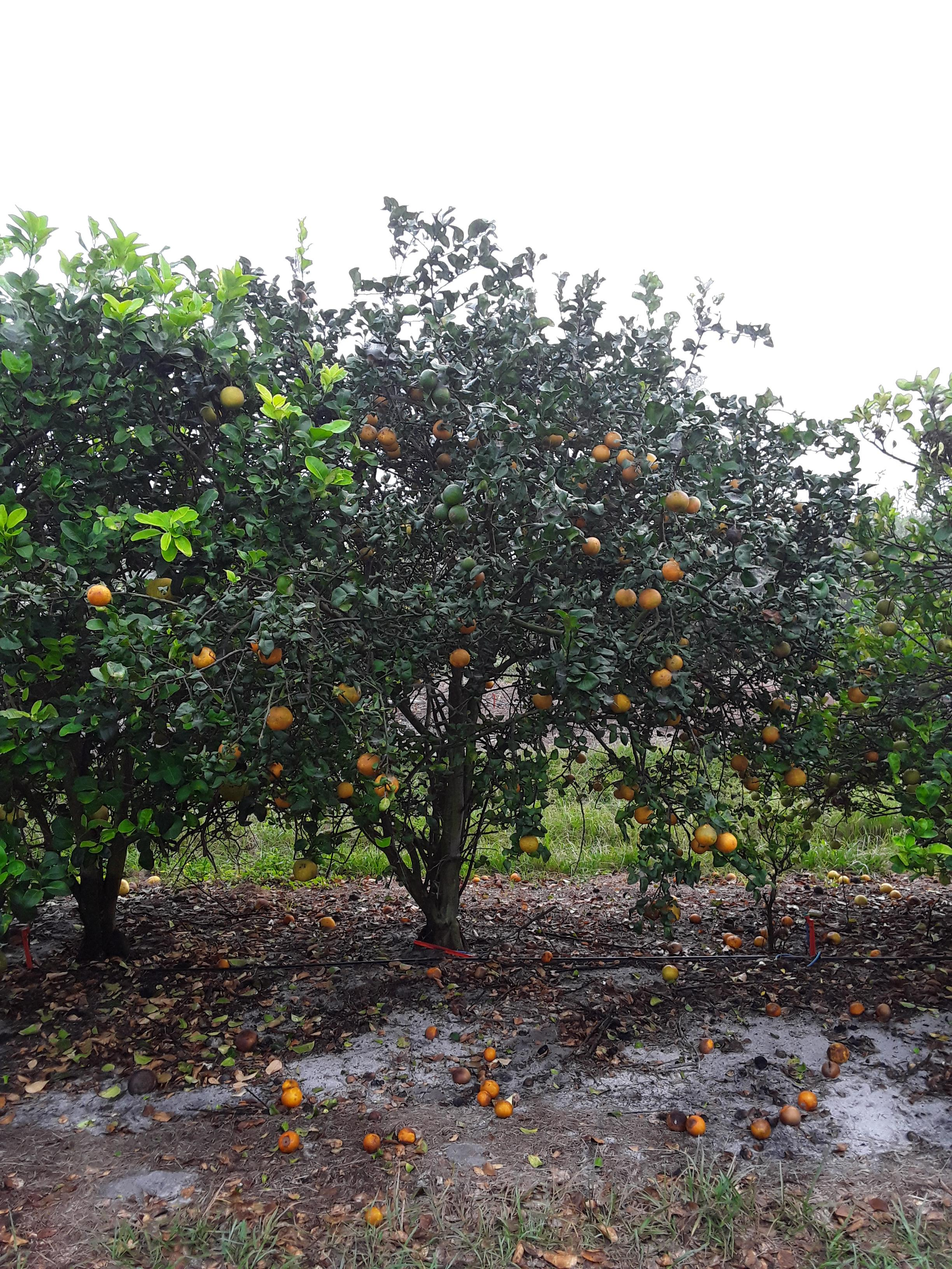fruit_on_ground: (218, 383, 249, 411), (253, 641, 285, 668), (265, 704, 295, 732), (189, 643, 218, 670), (84, 581, 113, 608), (332, 680, 362, 706), (355, 751, 383, 778), (291, 856, 318, 882), (215, 738, 243, 763), (637, 585, 663, 611), (373, 772, 400, 797), (84, 799, 112, 823), (196, 402, 222, 427), (271, 787, 297, 812), (694, 823, 719, 848), (665, 488, 690, 513), (715, 830, 740, 855), (4, 801, 30, 825), (430, 417, 455, 441), (441, 482, 466, 506), (613, 586, 638, 610), (660, 558, 685, 582), (853, 659, 879, 681), (613, 542, 636, 566), (264, 758, 288, 781), (784, 765, 808, 788), (455, 614, 480, 636), (530, 689, 555, 711), (432, 450, 455, 473), (610, 691, 633, 714), (516, 833, 540, 855), (417, 367, 441, 389), (661, 707, 684, 729), (430, 385, 453, 407), (447, 503, 470, 525), (728, 751, 750, 774), (650, 667, 673, 689), (448, 647, 472, 668), (660, 902, 682, 924), (544, 428, 566, 450), (581, 535, 603, 557), (845, 684, 868, 705), (619, 780, 642, 801), (770, 638, 793, 659), (723, 473, 748, 492), (888, 714, 911, 734), (379, 440, 402, 460), (769, 696, 793, 715), (633, 804, 654, 825), (760, 723, 781, 744), (149, 728, 171, 748), (821, 770, 843, 790), (377, 425, 399, 445), (663, 652, 685, 672), (641, 452, 662, 472), (684, 494, 704, 515), (620, 463, 641, 483), (616, 448, 637, 468), (356, 544, 377, 564), (357, 423, 378, 443), (334, 779, 355, 799), (590, 442, 611, 462), (877, 618, 899, 637), (860, 548, 882, 567), (431, 500, 450, 522), (502, 778, 525, 796), (688, 835, 708, 855), (467, 568, 487, 588), (603, 428, 623, 448), (901, 766, 922, 785), (874, 596, 895, 615), (889, 736, 911, 754), (346, 521, 366, 540), (642, 902, 661, 922), (743, 774, 763, 793), (933, 635, 951, 656), (458, 555, 479, 573), (570, 512, 589, 531), (406, 385, 425, 404), (572, 474, 591, 493), (789, 498, 808, 516), (562, 427, 582, 444), (380, 436, 400, 453), (370, 392, 389, 409), (863, 747, 882, 764), (805, 802, 822, 820), (506, 454, 523, 472), (662, 809, 680, 826), (363, 409, 381, 425), (465, 435, 483, 451), (482, 676, 498, 691), (827, 837, 844, 851), (676, 634, 691, 649), (574, 750, 589, 765), (612, 787, 626, 801), (671, 846, 685, 859), (678, 731, 692, 743), (591, 780, 604, 792), (565, 772, 576, 785), (750, 790, 761, 801), (761, 804, 773, 813)
fruit_on_tree: (126, 1069, 159, 1096), (276, 1127, 302, 1154), (233, 1027, 259, 1052), (684, 1113, 707, 1138), (749, 1116, 772, 1140), (665, 1108, 687, 1133), (360, 1131, 383, 1154), (280, 1085, 303, 1108), (363, 1204, 385, 1227), (827, 1041, 850, 1063), (779, 1102, 802, 1124), (449, 1065, 472, 1086), (796, 1089, 818, 1110), (492, 1098, 514, 1118), (819, 1059, 840, 1079), (480, 1079, 500, 1099), (396, 1124, 416, 1144), (660, 964, 681, 983), (144, 871, 164, 889), (114, 877, 132, 897), (875, 1001, 893, 1021), (476, 1089, 495, 1107), (847, 999, 866, 1017), (280, 1077, 301, 1093), (764, 1001, 783, 1018), (698, 1036, 715, 1054), (253, 896, 272, 912), (425, 964, 444, 980), (318, 914, 337, 930), (482, 1045, 498, 1062), (214, 955, 232, 970), (725, 935, 744, 949), (826, 930, 842, 946), (667, 940, 684, 955), (424, 1024, 439, 1041), (687, 910, 702, 925), (854, 893, 869, 907), (780, 913, 794, 927), (753, 935, 768, 948), (282, 911, 296, 924), (540, 950, 554, 963), (722, 931, 737, 943), (906, 895, 921, 907), (878, 882, 893, 894), (825, 869, 839, 881), (889, 889, 903, 901), (869, 946, 882, 958), (756, 925, 770, 936), (508, 872, 522, 883), (838, 874, 850, 886), (845, 916, 858, 927), (812, 884, 825, 895), (724, 872, 737, 883), (381, 904, 393, 914), (399, 914, 411, 924), (859, 872, 871, 882), (850, 875, 861, 884), (471, 876, 481, 883)
